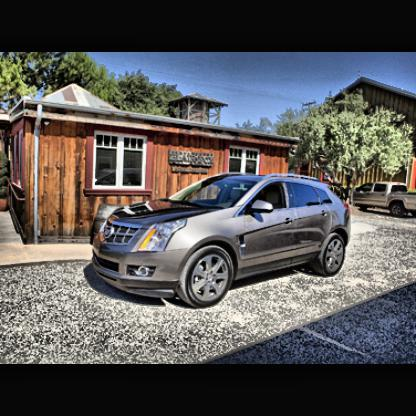Cadillac SRX SUV 2012: (87, 170, 355, 316)
